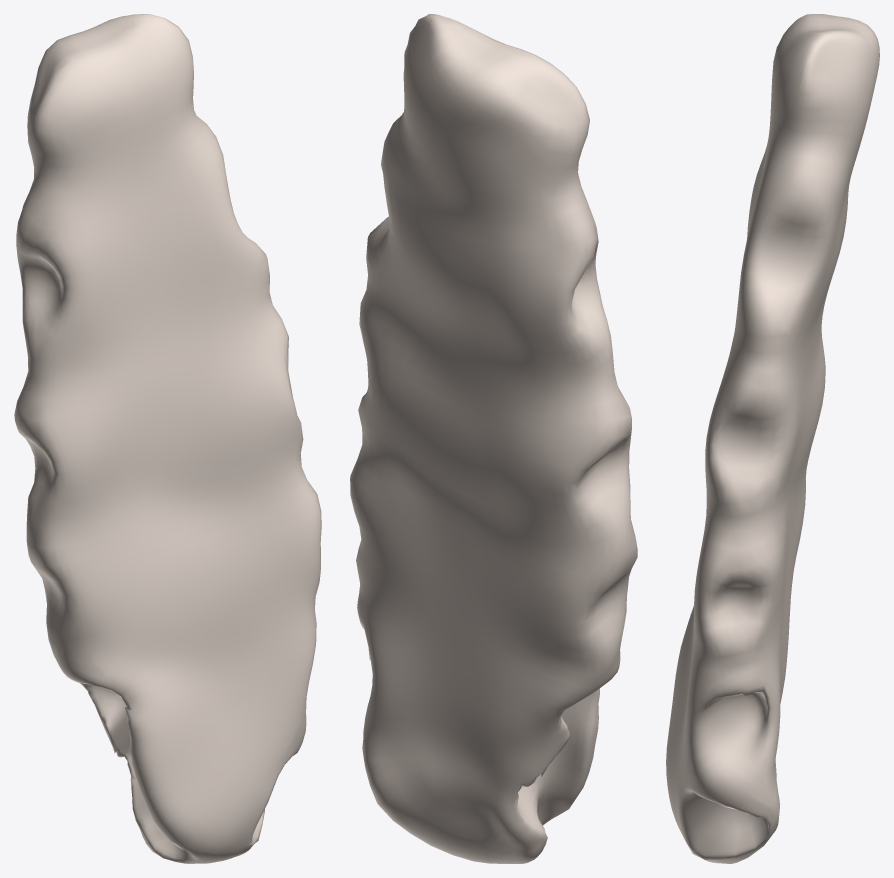
The model's file is 3DPX-021620.glb.
3 renders of one model, left to right at view 1: azimuth 30°, elevation 25°; view 2: azimuth 150°, elevation 25°; view 3: azimuth 270°, elevation 25°, orthographic. The views are drawn at different scales.
Parts seen in each view (by area): view 1: VH_F_sternum; view 2: VH_F_sternum; view 3: VH_F_sternum.
Part boxes in pixels (<box>): VH_F_sternum: <box>14,14,321,863</box>; VH_F_sternum: <box>350,14,637,863</box>; VH_F_sternum: <box>666,14,879,863</box>.
Bounding box in the file's own units: 0.0367 × 0.1057 × 0.0252.
